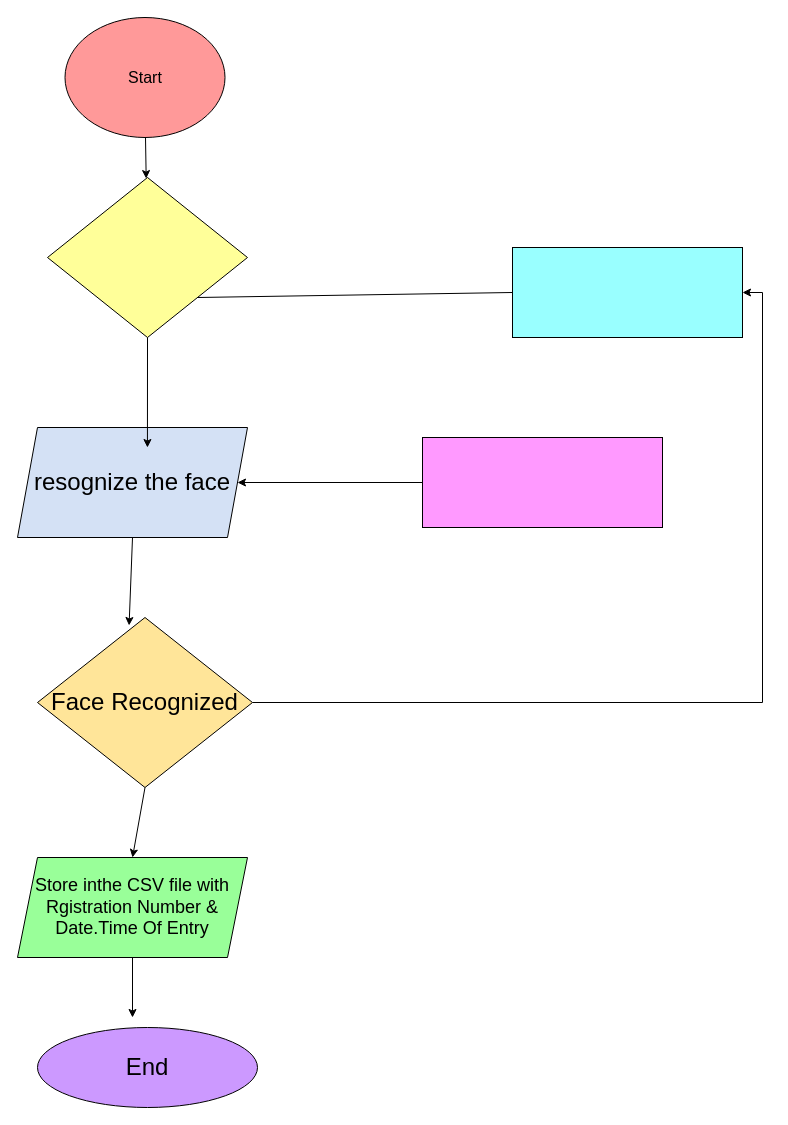
The diagram is 788 pixels wide and 1125 high, and some of its shapes have lost their labels. Here are the shapes that lost their labels. From the top down, the centre of each, then its label:
pixel 147 257: New user
pixel 627 292: Give Your Photograph
pixel 542 482: Store the face data in folder on your name
